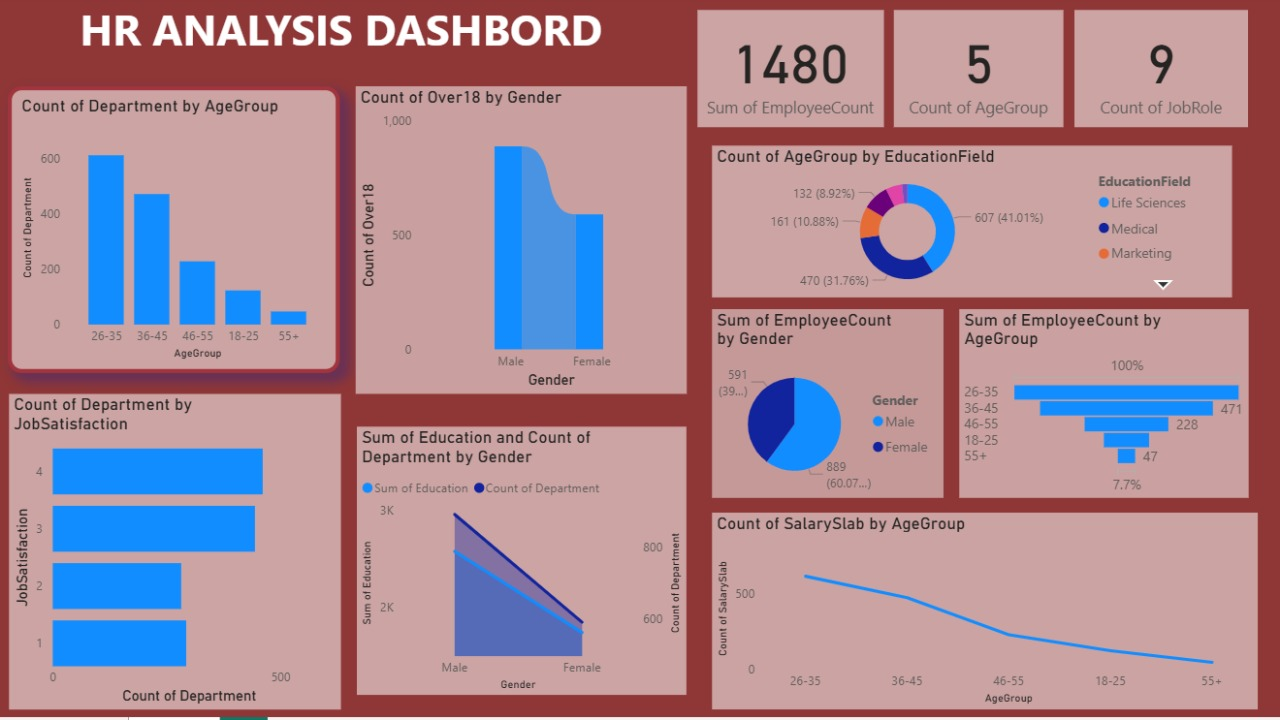

What the dashboard file says about the page in this screenshot:
{"tool":"powerbi","page":{"name":"Page 1","canvas":[1280,720],"ordinal":0},"visuals":[{"type":"textbox","box":[9.6,0,675.1,72.7],"z":0},{"type":"pieChart","fields":{"Category":["HR_Analytics (1).Gender"],"Y":["Sum(HR_Analytics (1).EmployeeCount)"]},"box":[710.6,313.7,230.4,188.2],"z":1000},{"type":"columnChart","fields":{"Category":["HR_Analytics (1).AgeGroup"],"Y":["CountNonNull(HR_Analytics (1).Department)"]},"box":[10,91.4,330,285.7],"z":2000},{"type":"clusteredBarChart","fields":{"Category":["HR_Analytics (1).JobSatisfaction"],"Y":["CountNonNull(HR_Analytics (1).Department)"]},"box":[11,397.9,330.7,314.2],"z":3000},{"type":"areaChart","fields":{"Category":["HR_Analytics (1).Gender"],"Y":["Sum(HR_Analytics (1).Education)"],"Y2":["CountNonNull(HR_Analytics (1).Department)"]},"box":[356.8,430.9,328,267.6],"z":4000},{"type":"ribbonChart","fields":{"Category":["HR_Analytics (1).Gender"],"Y":["CountNonNull(HR_Analytics (1).Over18)"]},"box":[355.4,91.9,329.3,306],"z":5000},{"type":"lineChart","fields":{"Y":["CountNonNull(HR_Analytics (1).SalarySlab)"],"Category":["HR_Analytics (1).AgeGroup"]},"box":[710.8,516,543.4,196.2],"z":6000},{"type":"card","fields":{"Values":["Sum(HR_Analytics (1).EmployeeCount)"]},"box":[695.7,15.1,185.2,116.6],"z":7000},{"type":"card","fields":{"Values":["Count(HR_Analytics (1).AgeGroup)"]},"box":[891.9,15.1,168.8,116.6],"z":8000},{"type":"card","fields":{"Values":["Count(HR_Analytics (1).JobRole)"]},"box":[1071.7,15.1,172.9,116.6],"z":9000},{"type":"funnel","fields":{"Category":["HR_Analytics (1).AgeGroup"],"Y":["Sum(HR_Analytics (1).EmployeeCount)"]},"box":[956.4,314.2,288.2,188],"z":10000},{"type":"donutChart","fields":{"Category":["HR_Analytics (1).EducationField"],"Y":["CountNonNull(HR_Analytics (1).AgeGroup)"]},"box":[710.8,150.9,517.3,150.9],"z":11000}]}

Visuals, with their boxes in screenshot pixels (x1, y1, x2, y2), scaled from the page's 1280x720 canvas onto the 1280x720 screenshot:
textbox: l=10, t=0, r=685, b=73
pieChart - HR_Analytics (1).Gender x Sum(HR_Analytics (1).EmployeeCount): l=711, t=314, r=941, b=502
columnChart - HR_Analytics (1).AgeGroup x CountNonNull(HR_Analytics (1).Department): l=10, t=91, r=340, b=377
clusteredBarChart - HR_Analytics (1).JobSatisfaction x CountNonNull(HR_Analytics (1).Department): l=11, t=398, r=342, b=712
areaChart - HR_Analytics (1).Gender x Sum(HR_Analytics (1).Education): l=357, t=431, r=685, b=698
ribbonChart - HR_Analytics (1).Gender x CountNonNull(HR_Analytics (1).Over18): l=355, t=92, r=685, b=398
lineChart - CountNonNull(HR_Analytics (1).SalarySlab) x HR_Analytics (1).AgeGroup: l=711, t=516, r=1254, b=712
card - Sum(HR_Analytics (1).EmployeeCount): l=696, t=15, r=881, b=132
card - Count(HR_Analytics (1).AgeGroup): l=892, t=15, r=1061, b=132
card - Count(HR_Analytics (1).JobRole): l=1072, t=15, r=1245, b=132
funnel - HR_Analytics (1).AgeGroup x Sum(HR_Analytics (1).EmployeeCount): l=956, t=314, r=1245, b=502
donutChart - HR_Analytics (1).EducationField x CountNonNull(HR_Analytics (1).AgeGroup): l=711, t=151, r=1228, b=302
